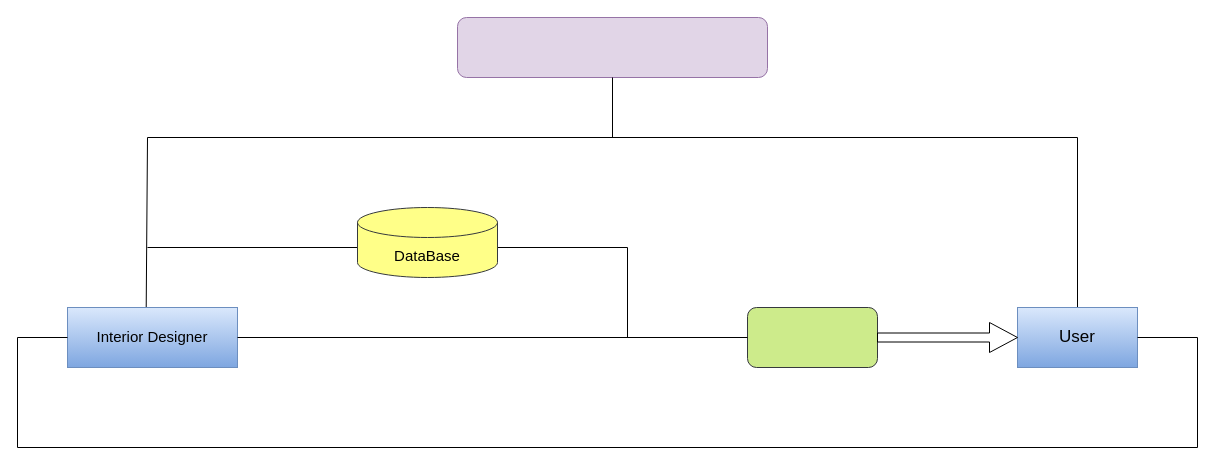
The diagram is 1216 pixels wide and 466 high, and some of its shapes have lost their labels. The shapes that lost their labels are listed below. From the top down, each one's centre as x and y in pixels, then its label:
At point 612,47: "Interior Recommendation System".
At point 812,337: "UI".
